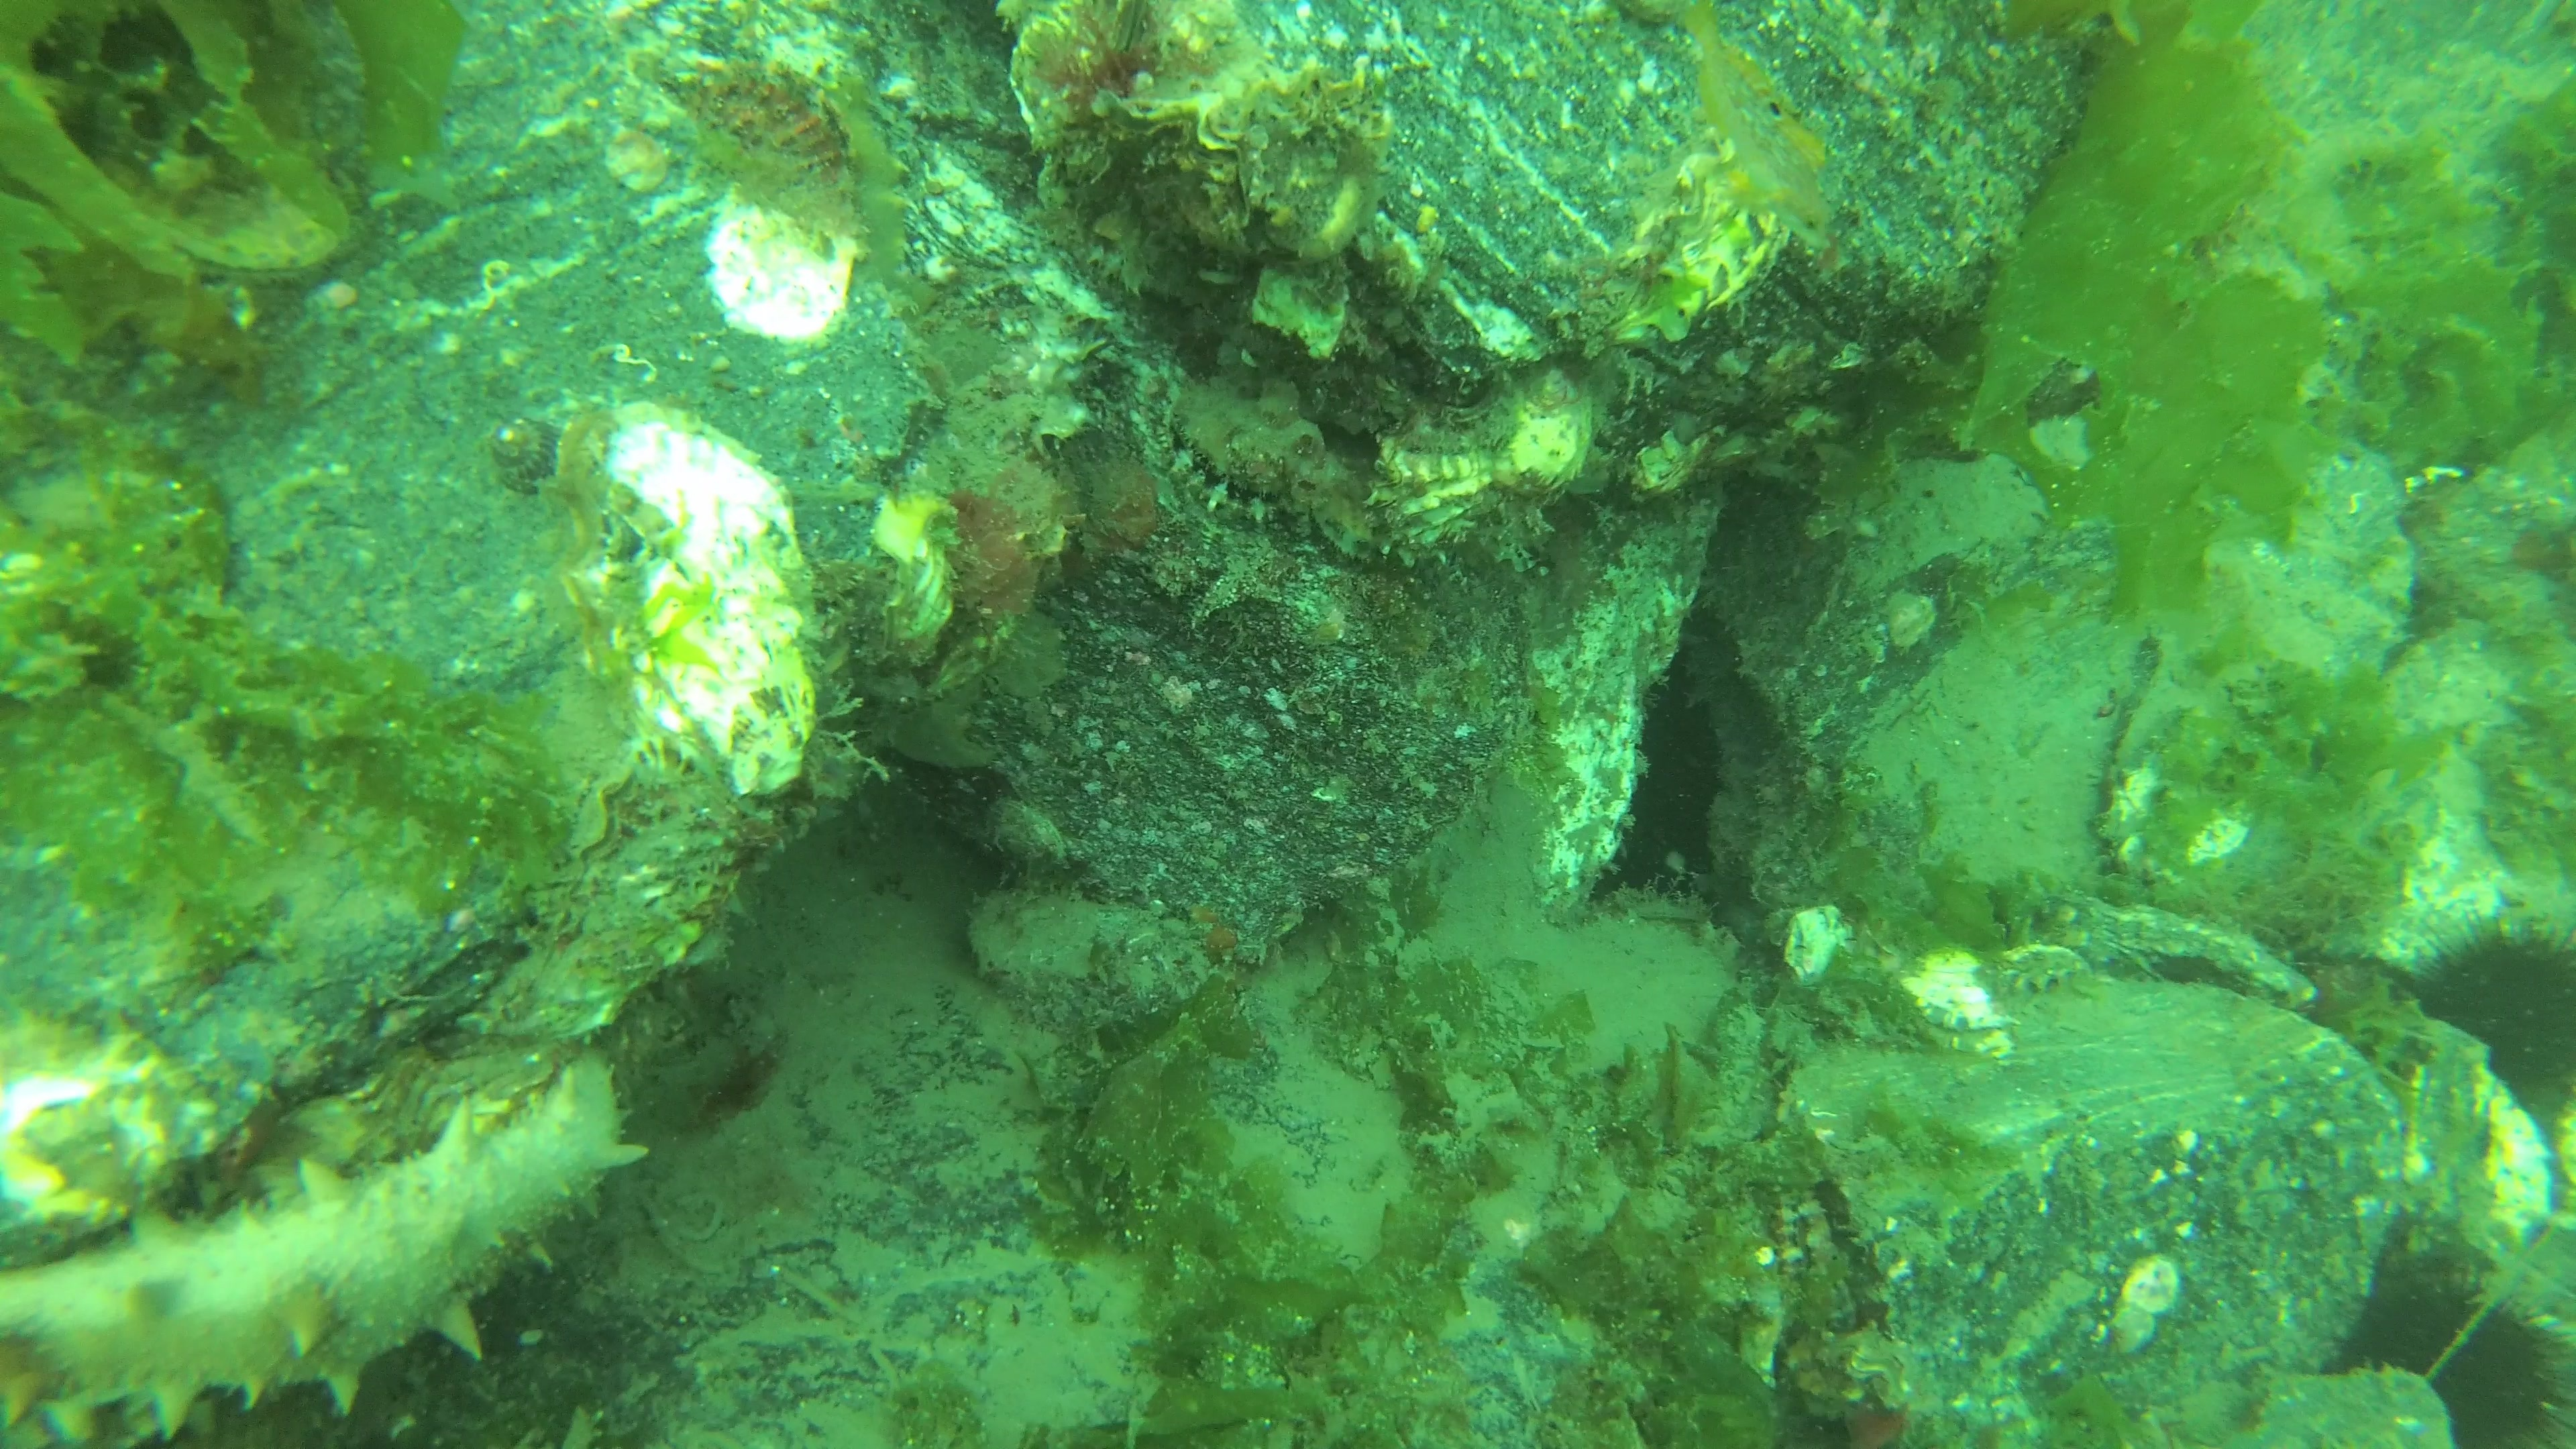echinus: (2327, 1254, 2572, 1449), (2406, 897, 2576, 1134)
holothurian: (9, 1033, 662, 1449)
